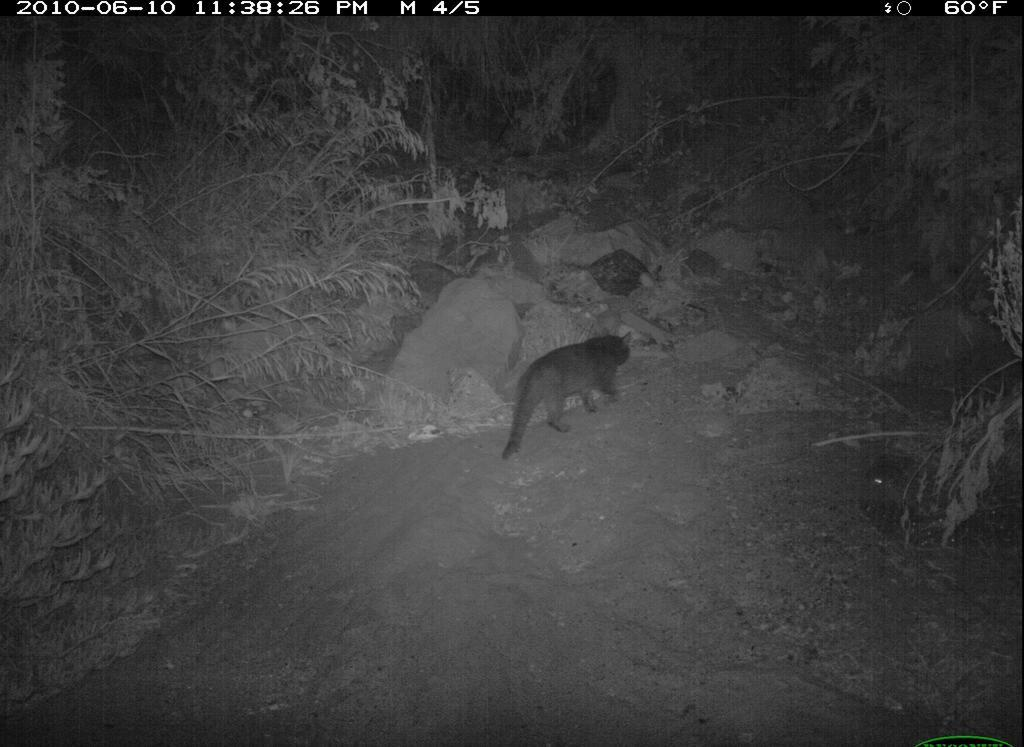cat: (491, 321, 641, 460)
